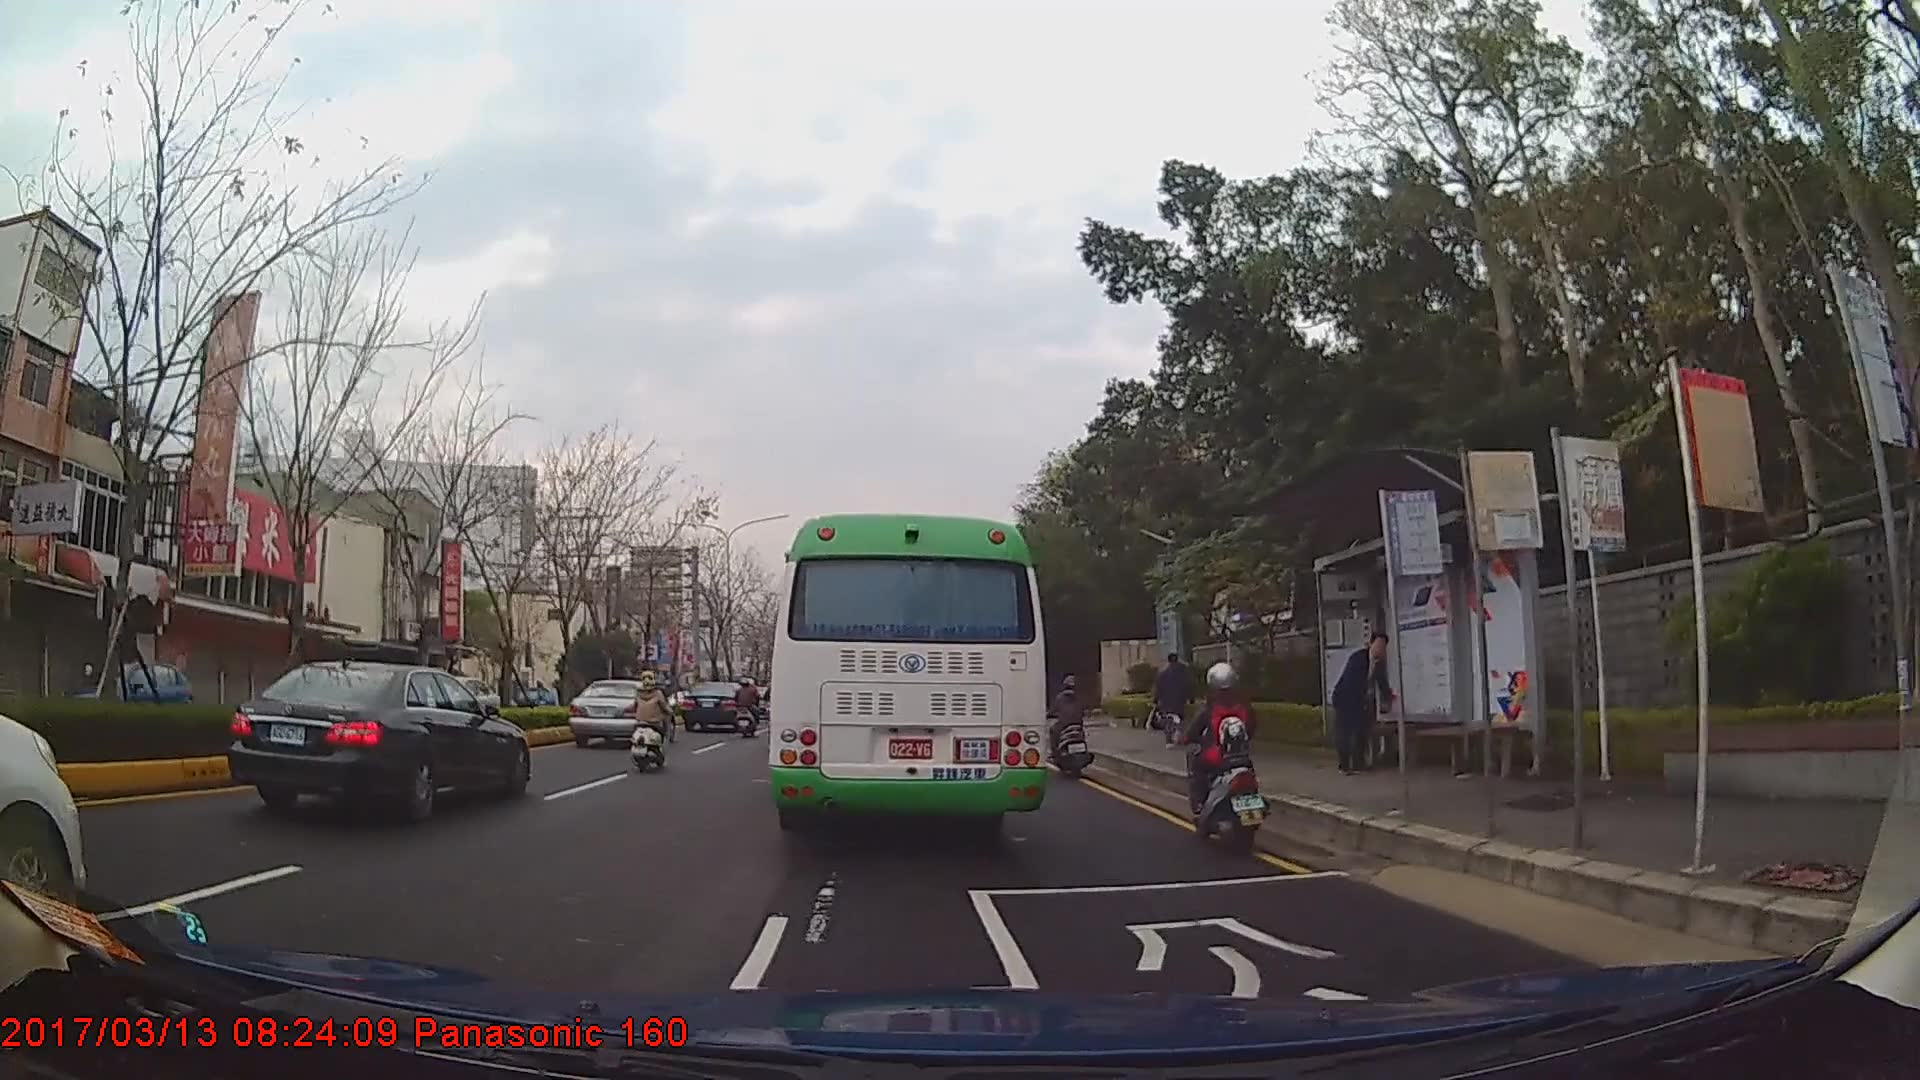pedestrian: (1337, 632, 1395, 781), (1146, 652, 1195, 752)
rider: (1175, 665, 1273, 851), (1047, 673, 1094, 781), (633, 670, 676, 769), (736, 678, 759, 739), (75, 664, 101, 700)
vehicle: (768, 512, 1045, 840), (220, 659, 528, 816), (59, 654, 196, 738), (569, 677, 673, 749), (399, 665, 507, 730), (680, 677, 748, 731)
